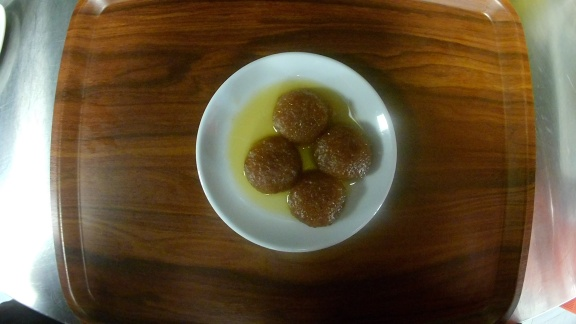kemalpasa: (196, 51, 398, 252)
